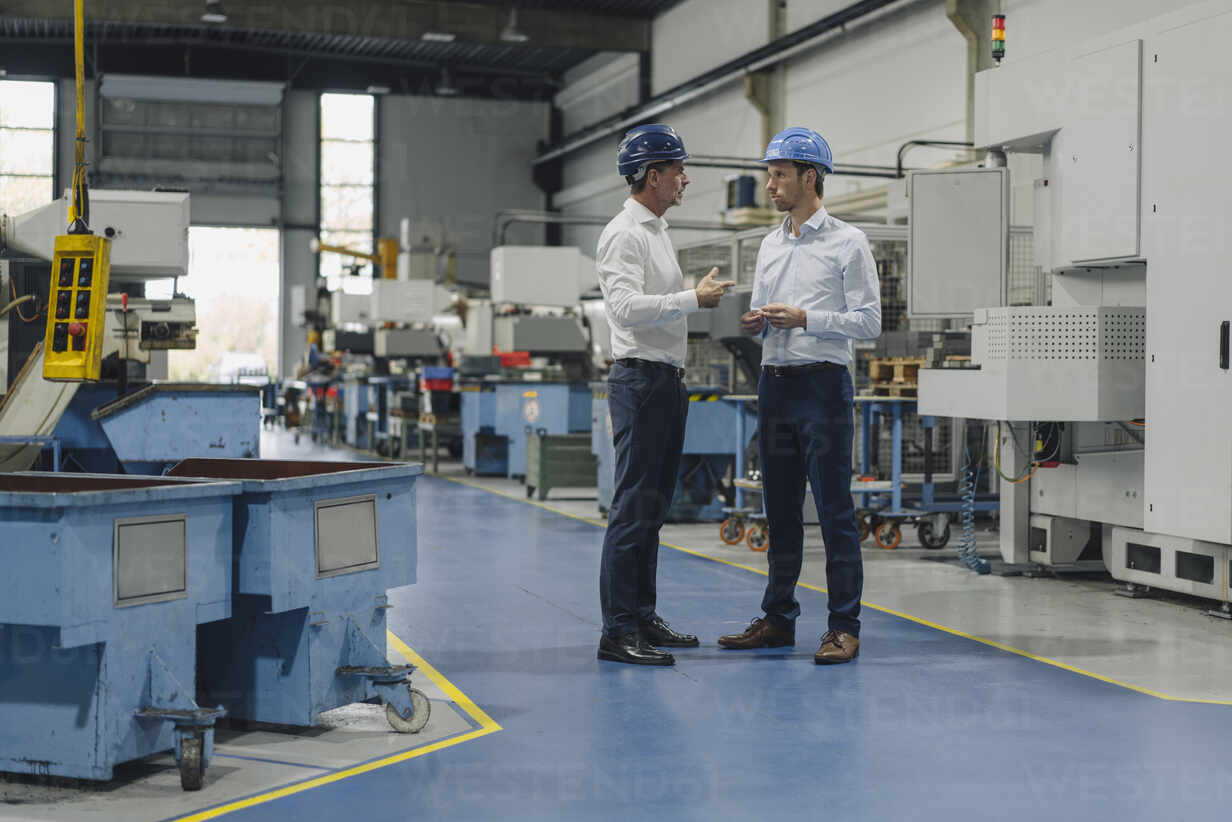person: (719, 128, 878, 659), (594, 124, 734, 666)
